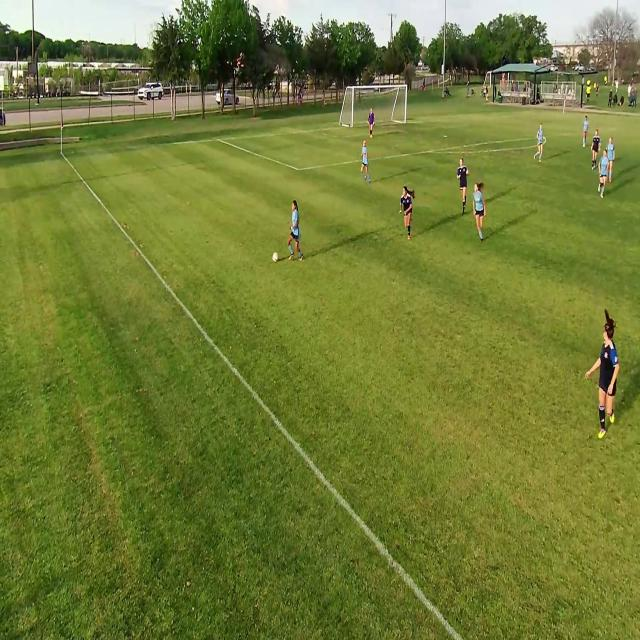ball: (272, 250, 280, 266)
team1: (592, 317, 619, 438), (401, 184, 416, 238), (458, 159, 471, 219), (590, 132, 601, 174)
team2: (286, 201, 302, 262), (474, 180, 488, 242), (596, 149, 610, 199), (607, 139, 617, 189), (362, 141, 372, 183), (536, 121, 546, 162), (582, 114, 590, 148)
